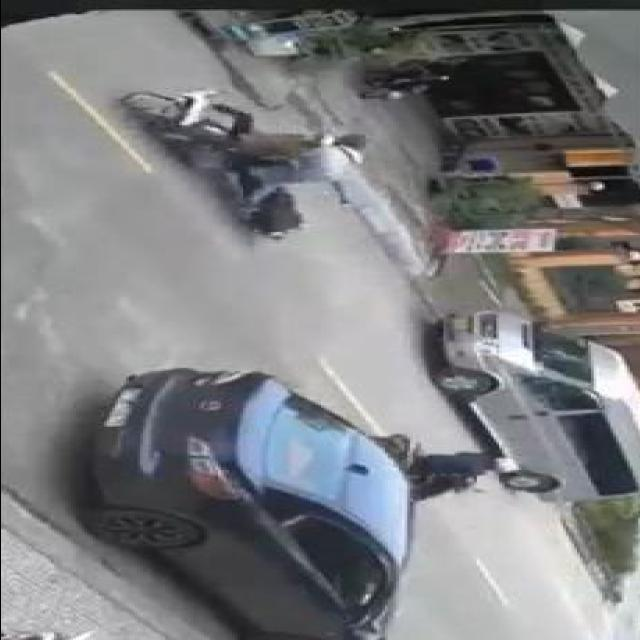accident: (102, 85, 386, 247)
